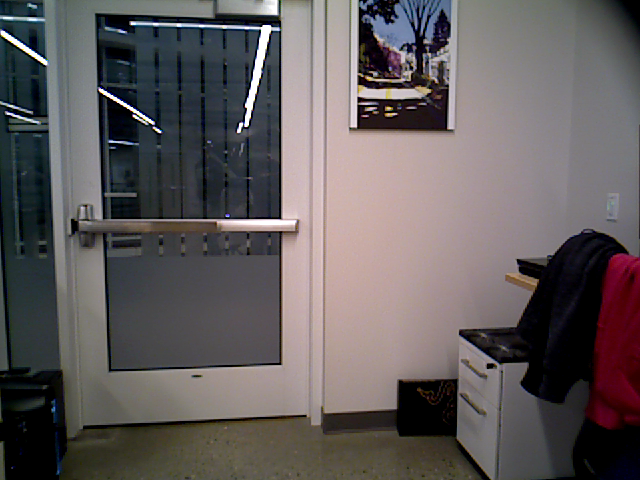painting3: (347, 1, 456, 130)
